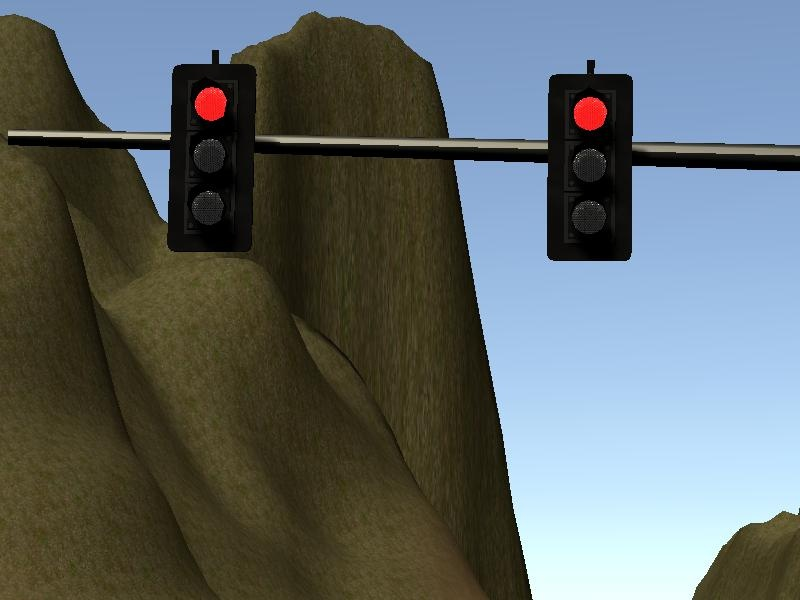red: (164, 60, 258, 254), (543, 72, 636, 262)
